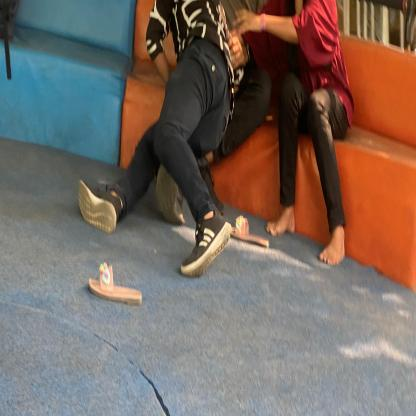hand: (228, 2, 310, 49)
leg: (164, 147, 235, 299), (63, 156, 138, 258), (312, 153, 365, 287), (257, 133, 305, 259)
